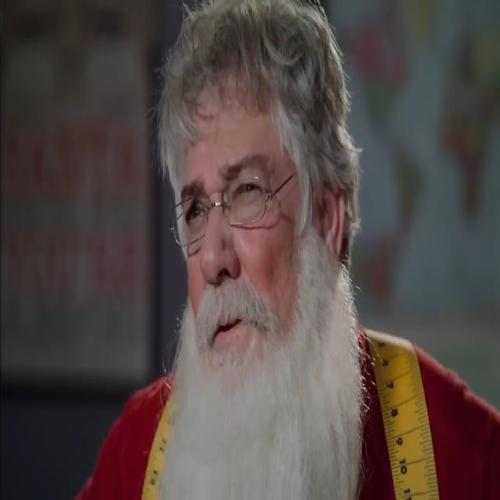Santa: (73, 0, 500, 500)
